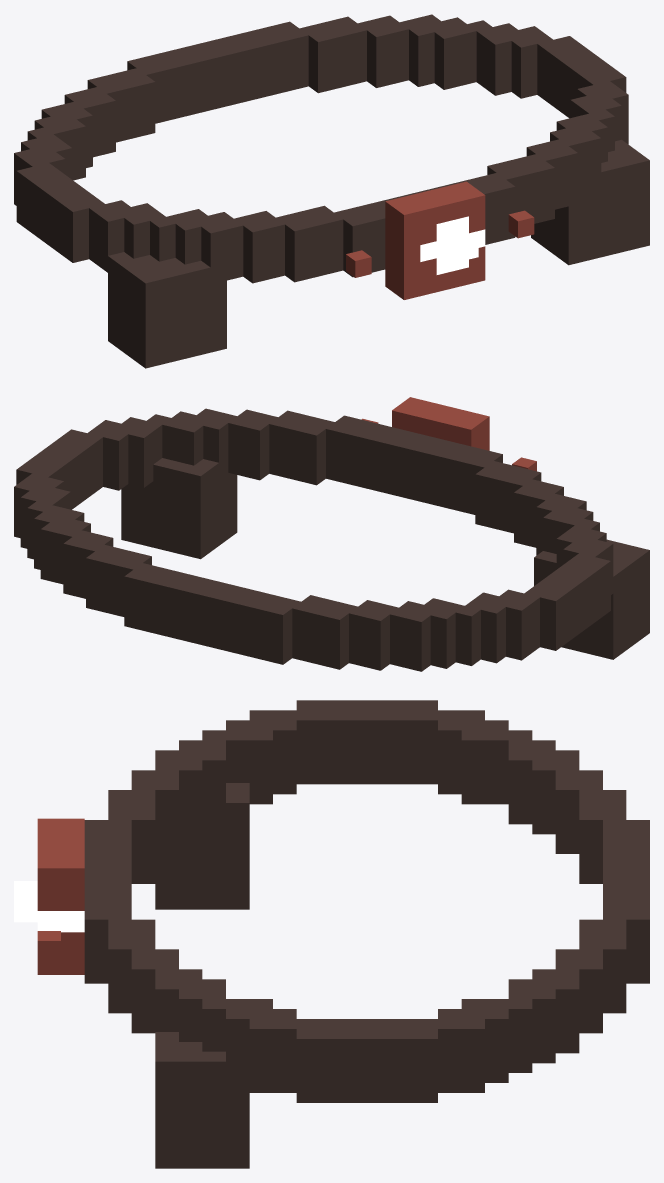
File: leather_masterwork_belt.glb
3 views of the same model, one above another, from view 1: azimuth 30°, elevation 25°; view 2: azimuth 150°, elevation 25°; view 3: azimuth 270°, elevation 25° (orthographic). The views are drawn at different scales.
Visible parts, largest first — view 1: leather_masterwork_belt; view 2: leather_masterwork_belt; view 3: leather_masterwork_belt.
Boxes of the visible parts, <box> form: leather_masterwork_belt: <box>14,14,649,368</box>; leather_masterwork_belt: <box>14,397,649,671</box>; leather_masterwork_belt: <box>14,700,649,1168</box>.
Bounding box in the file's own units: 0.408 × 0.096 × 0.324.
